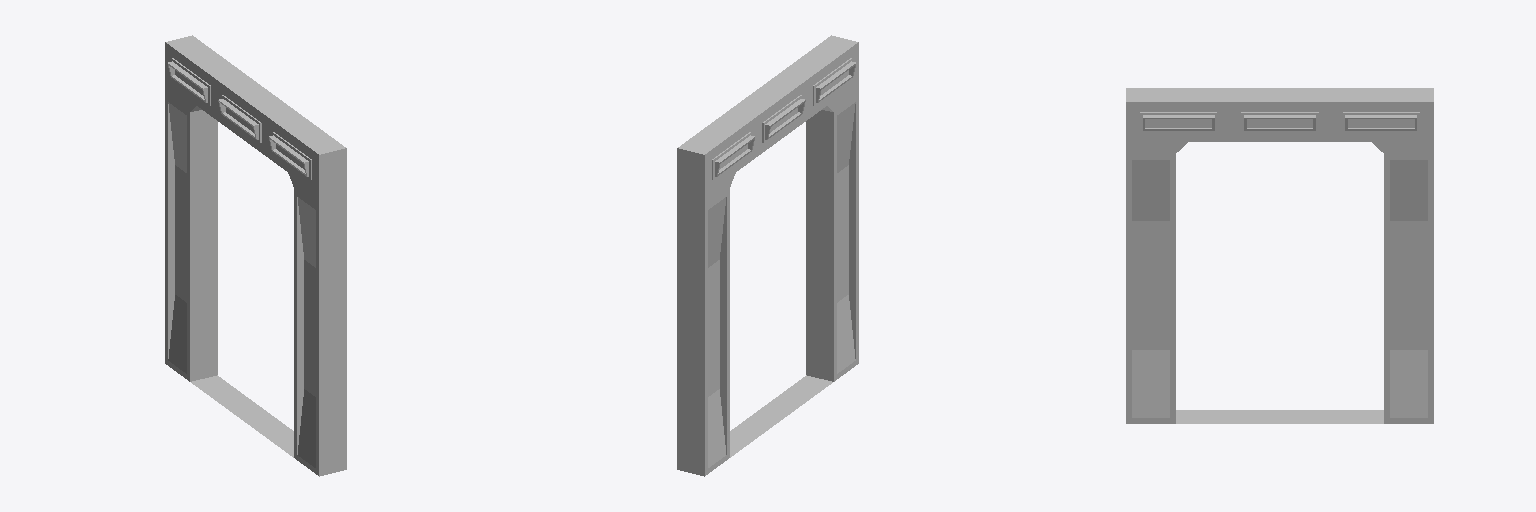
File: Door Walls.obj
The picture shows the model from 3 angles: view 1: azimuth 30°, elevation 25°; view 2: azimuth 150°, elevation 25°; view 3: azimuth 270°, elevation 25°; orthographic projection.
Visible parts, largest first — view 1: SketchUp.005_ID35.001, SketchUp.017_ID107.001, SketchUp.008_ID53.001, SketchUp_ID3.001; view 2: SketchUp.005_ID35.001, SketchUp.008_ID53.001, SketchUp.017_ID107.001, SketchUp_ID3.001; view 3: SketchUp.005_ID35.001, SketchUp.017_ID107.001, SketchUp.012_ID77.001, SketchUp.008_ID53.001, SketchUp.018_ID113.001, SketchUp.019_ID119, SketchUp.010_ID65.001.
Boxes of the visible parts, <box> form: SketchUp.005_ID35.001: <box>165,35,346,476</box>; SketchUp.017_ID107.001: <box>168,102,186,373</box>; SketchUp.008_ID53.001: <box>297,197,315,467</box>; SketchUp_ID3.001: <box>168,61,207,102</box>; SketchUp.005_ID35.001: <box>677,35,858,476</box>; SketchUp.008_ID53.001: <box>837,102,855,373</box>; SketchUp.017_ID107.001: <box>708,197,726,467</box>; SketchUp_ID3.001: <box>715,135,754,176</box>; SketchUp.005_ID35.001: <box>1126,88,1433,423</box>; SketchUp.017_ID107.001: <box>1390,160,1427,417</box>; SketchUp.012_ID77.001: <box>1132,221,1169,349</box>; SketchUp.008_ID53.001: <box>1132,160,1169,417</box>; SketchUp.018_ID113.001: <box>1143,115,1214,130</box>; SketchUp.019_ID119: <box>1348,119,1414,128</box>; SketchUp.010_ID65.001: <box>1247,119,1312,128</box>.
Size of the model in its own units: 5.48 by 41.66 by 36.15.